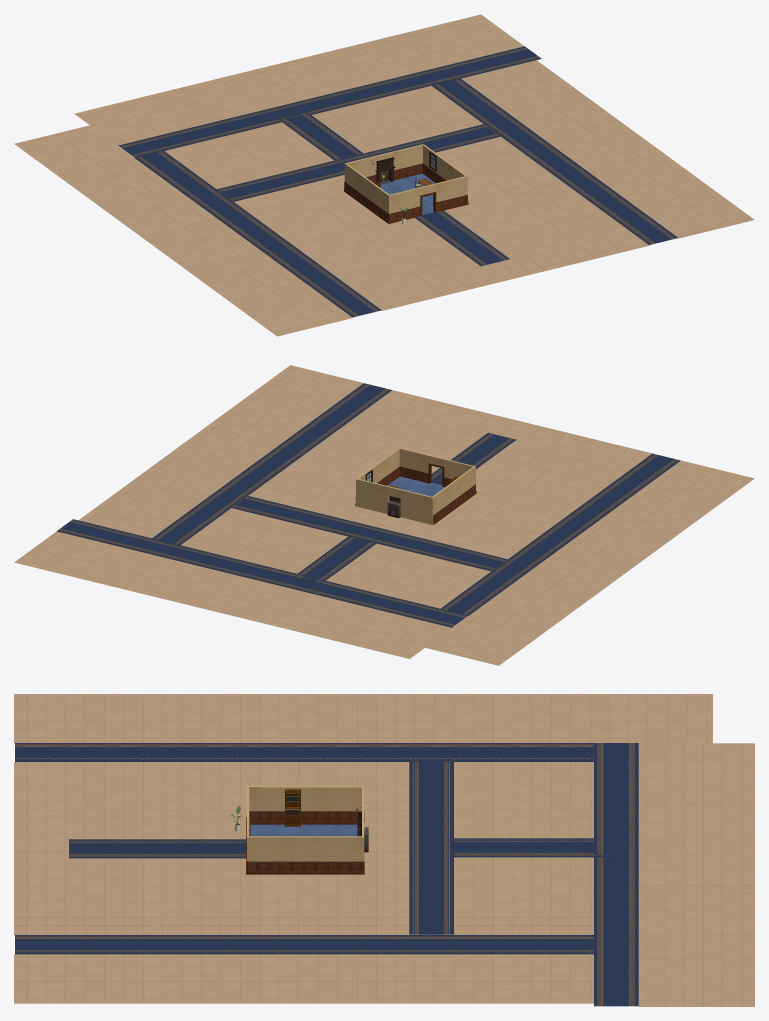
File: Total Env.fbx
The picture shows the model from 3 angles, top to bottom: view 1: azimuth 30°, elevation 25°; view 2: azimuth 150°, elevation 25°; view 3: azimuth 270°, elevation 25°; orthographic projection. The views are drawn at different scales.
Parts seen in each view (by area): view 1: Outer Floor, Carpet, Library Room, Library Floor; view 2: Outer Floor, Carpet, Library Room, Library Floor; view 3: Outer Floor, Carpet, Library Room, Library Floor.
Boxes of the visible parts, left/top/right/bottom form: Outer Floor: left=14, top=14, right=754, bottom=336; Carpet: left=118, top=46, right=677, bottom=317; Library Room: left=344, top=144, right=468, bottom=223; Library Floor: left=380, top=173, right=435, bottom=214; Outer Floor: left=14, top=365, right=754, bottom=665; Carpet: left=57, top=383, right=680, bottom=627; Library Room: left=355, top=447, right=476, bottom=524; Library Floor: left=387, top=476, right=444, bottom=496; Outer Floor: left=14, top=694, right=754, bottom=1006; Carpet: left=15, top=743, right=638, bottom=1006; Library Room: left=246, top=786, right=368, bottom=874; Library Floor: left=250, top=824, right=357, bottom=836.
Bounding box in the file's own units: 52.54 × 2.93 × 52.59.
